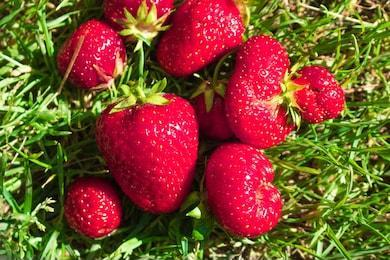Fresa: (89, 83, 208, 218), (197, 136, 287, 241), (151, 2, 251, 80), (53, 15, 135, 98), (57, 171, 132, 242), (285, 59, 349, 128)
